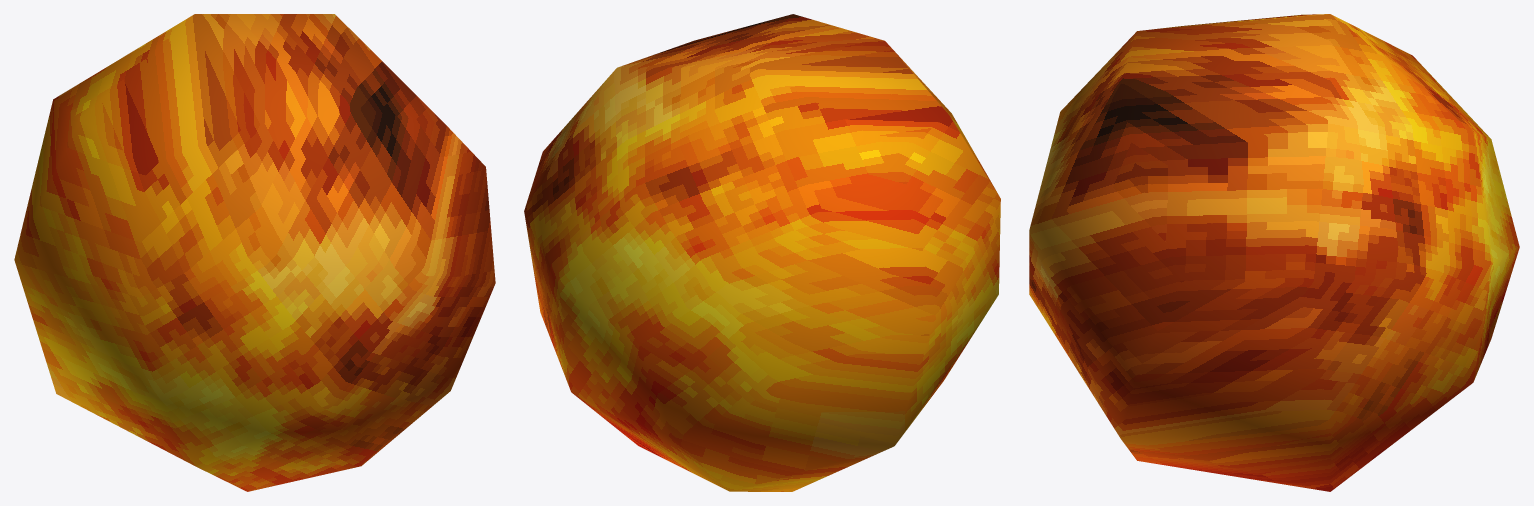
Rendered from Fireball.glb.
3 views of the same model, side by side, from view 1: azimuth 30°, elevation 25°; view 2: azimuth 150°, elevation 25°; view 3: azimuth 270°, elevation 25° (orthographic). The views are drawn at different scales.
Parts seen in each view (by area): view 1: Fireball; view 2: Fireball; view 3: Fireball.
Part boxes in pixels (x1,y1,x2,y2): Fireball: (14, 14, 495, 491); Fireball: (524, 14, 1000, 491); Fireball: (1029, 14, 1519, 491).
Bounding box in the file's own units: 0.2343 × 0.2356 × 0.2374.
Materials: 1 (1 with a texture image).
